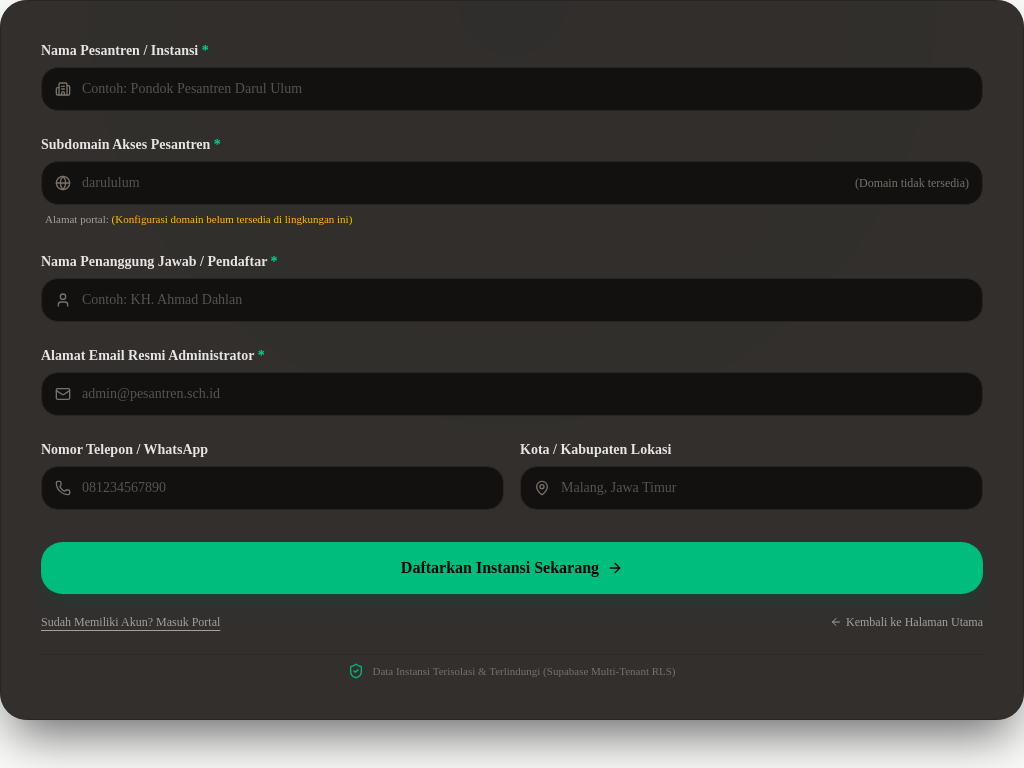
Test: WP-SAAS-REGISTRATION-IMPLEMENTATION-001 — Mobile-First Registration UI Tests › 3. Prevents submission and displays client error hints when required fields are empty
The width and height of the screenshot is (1024, 768).
Click the button "Daftarkan Instansi Sekarang".
click(512, 568)  # box [41, 542, 983, 594]
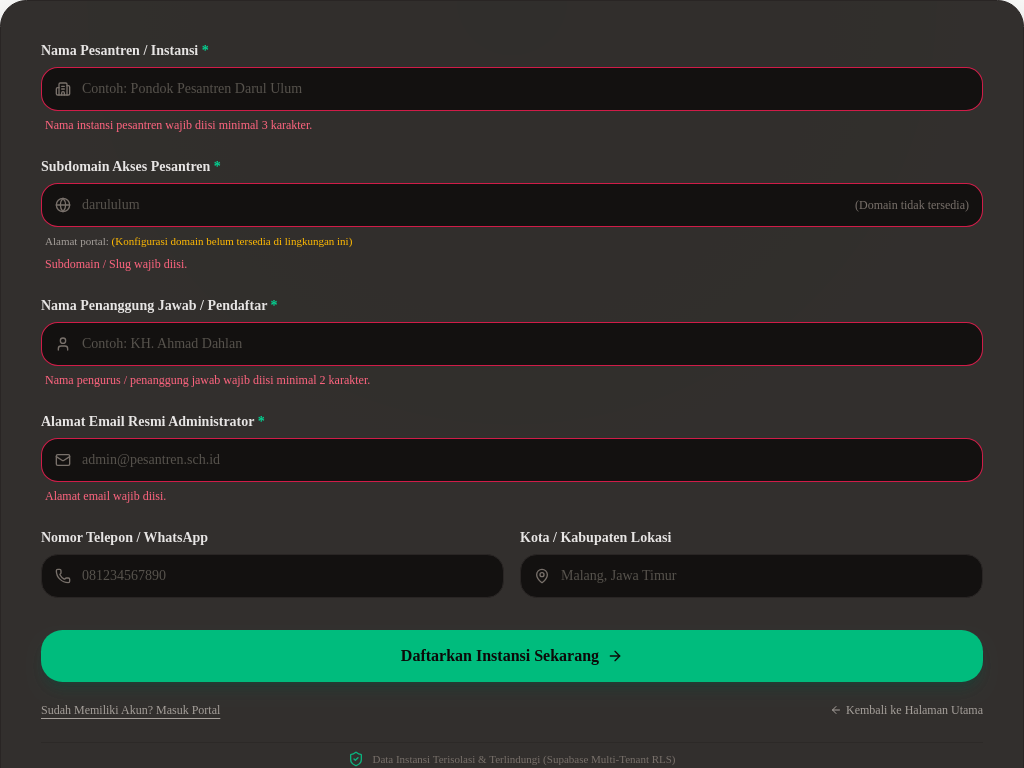
Expected: the text "Nama instansi pesantren wajib diisi minimal 3 karakter." is shown, [45, 118, 312, 132]
Expected: the text "Subdomain / Slug wajib diisi." is shown, [45, 256, 187, 270]
Expected: the text "Nama pengurus / penanggung jawab wajib diisi" is shown, [45, 372, 370, 386]
